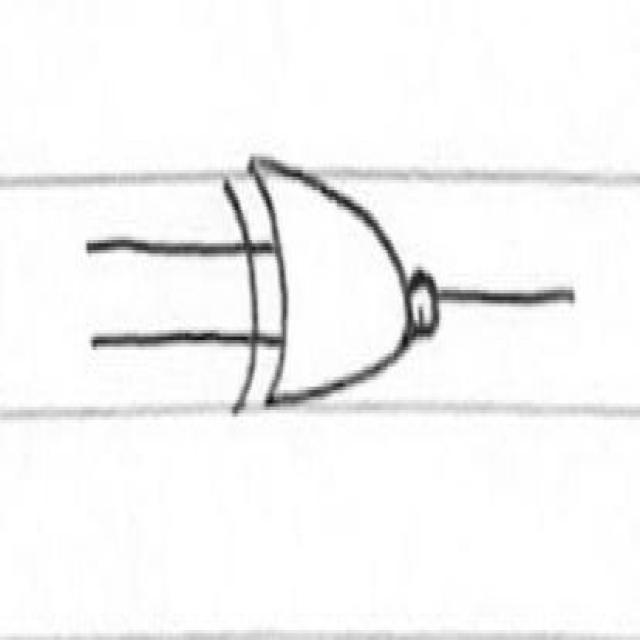XNOR: (212, 118, 466, 462)
